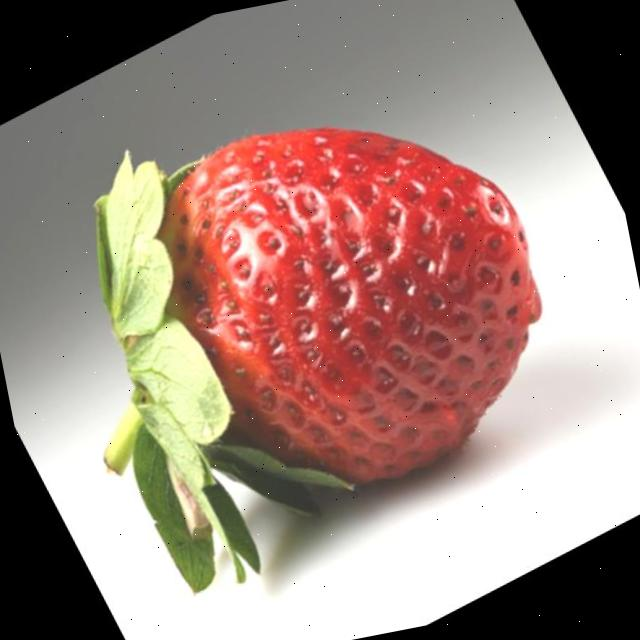strawberry: (95, 128, 541, 589)
